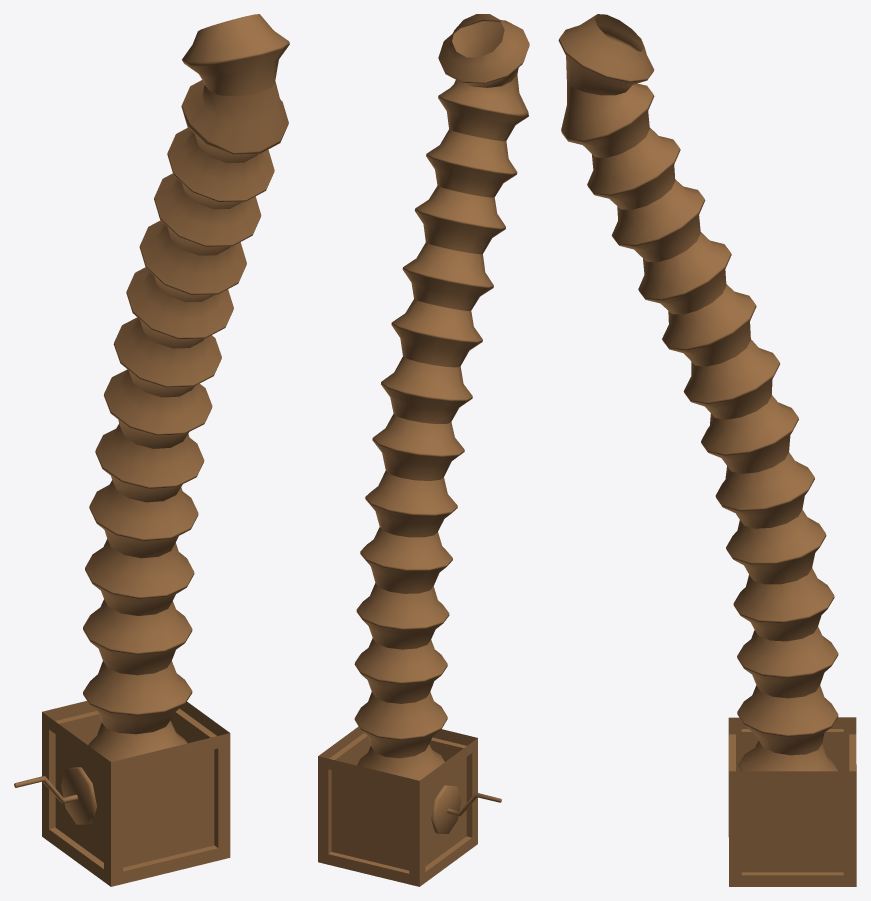
File: Box of clown (1).fbx
3 renders of one model, left to right at view 1: azimuth 30°, elevation 25°; view 2: azimuth 150°, elevation 25°; view 3: azimuth 270°, elevation 25°, orthographic. The views are drawn at different scales.
Visible parts, largest first — view 1: polySurface19; view 2: polySurface19; view 3: polySurface19.
Part boxes in pixels (<box>): polySurface19: <box>14,14,289,886</box>; polySurface19: <box>318,14,529,886</box>; polySurface19: <box>558,14,856,886</box>.
Bounding box in the file's own units: 2058 × 9890 × 3176.
